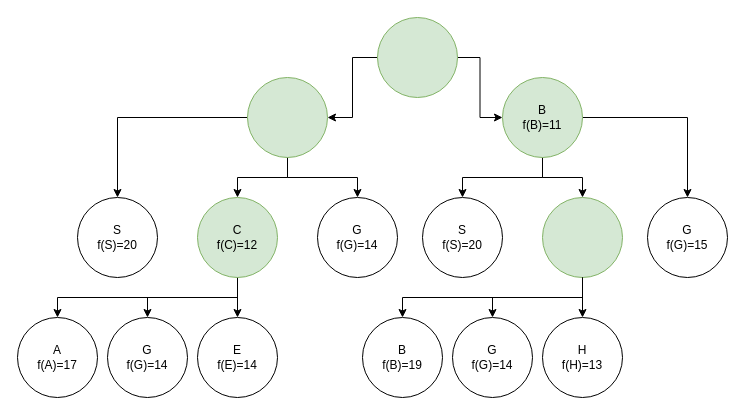
The diagram is 745 pixels wide and 415 high, and some of its shapes have lost their labels. The centre of each missing label's shape, as x and y in pixels:
"A f(A)=9" goes at (287,117).
"D f(D)=12" goes at (582,237).
"S f(S)=10" goes at (417,57).
